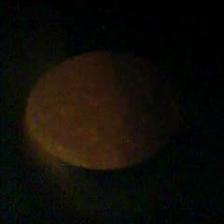fertile: (24, 52, 172, 171)
